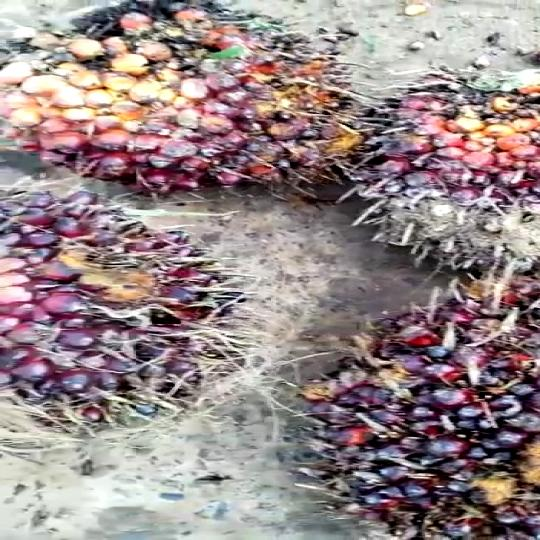masak: (0, 0, 370, 197), (0, 167, 252, 456), (294, 268, 535, 540)
